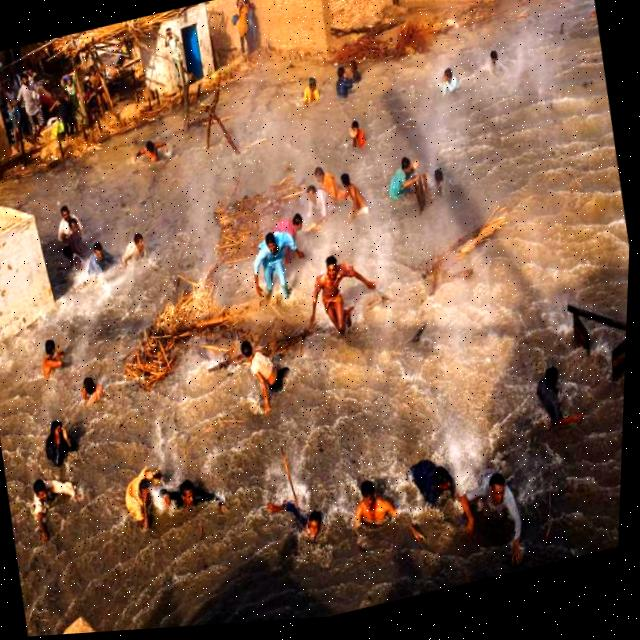civilian: (459, 448, 551, 577), (301, 234, 389, 347), (513, 343, 594, 445), (393, 439, 476, 533), (256, 476, 335, 572), (15, 465, 104, 549), (229, 324, 303, 422), (240, 219, 312, 307), (336, 458, 402, 549), (154, 461, 227, 540), (376, 141, 437, 227), (331, 156, 386, 236), (31, 409, 94, 478), (110, 211, 168, 282), (114, 457, 169, 529), (22, 320, 80, 386), (468, 33, 524, 101), (51, 188, 100, 265), (335, 105, 389, 167), (288, 58, 337, 125), (423, 50, 473, 110), (266, 203, 316, 263), (304, 152, 350, 211), (296, 173, 341, 233), (126, 127, 178, 174), (75, 367, 124, 415), (53, 204, 94, 258), (79, 233, 119, 283), (327, 61, 357, 112), (336, 49, 374, 88)
